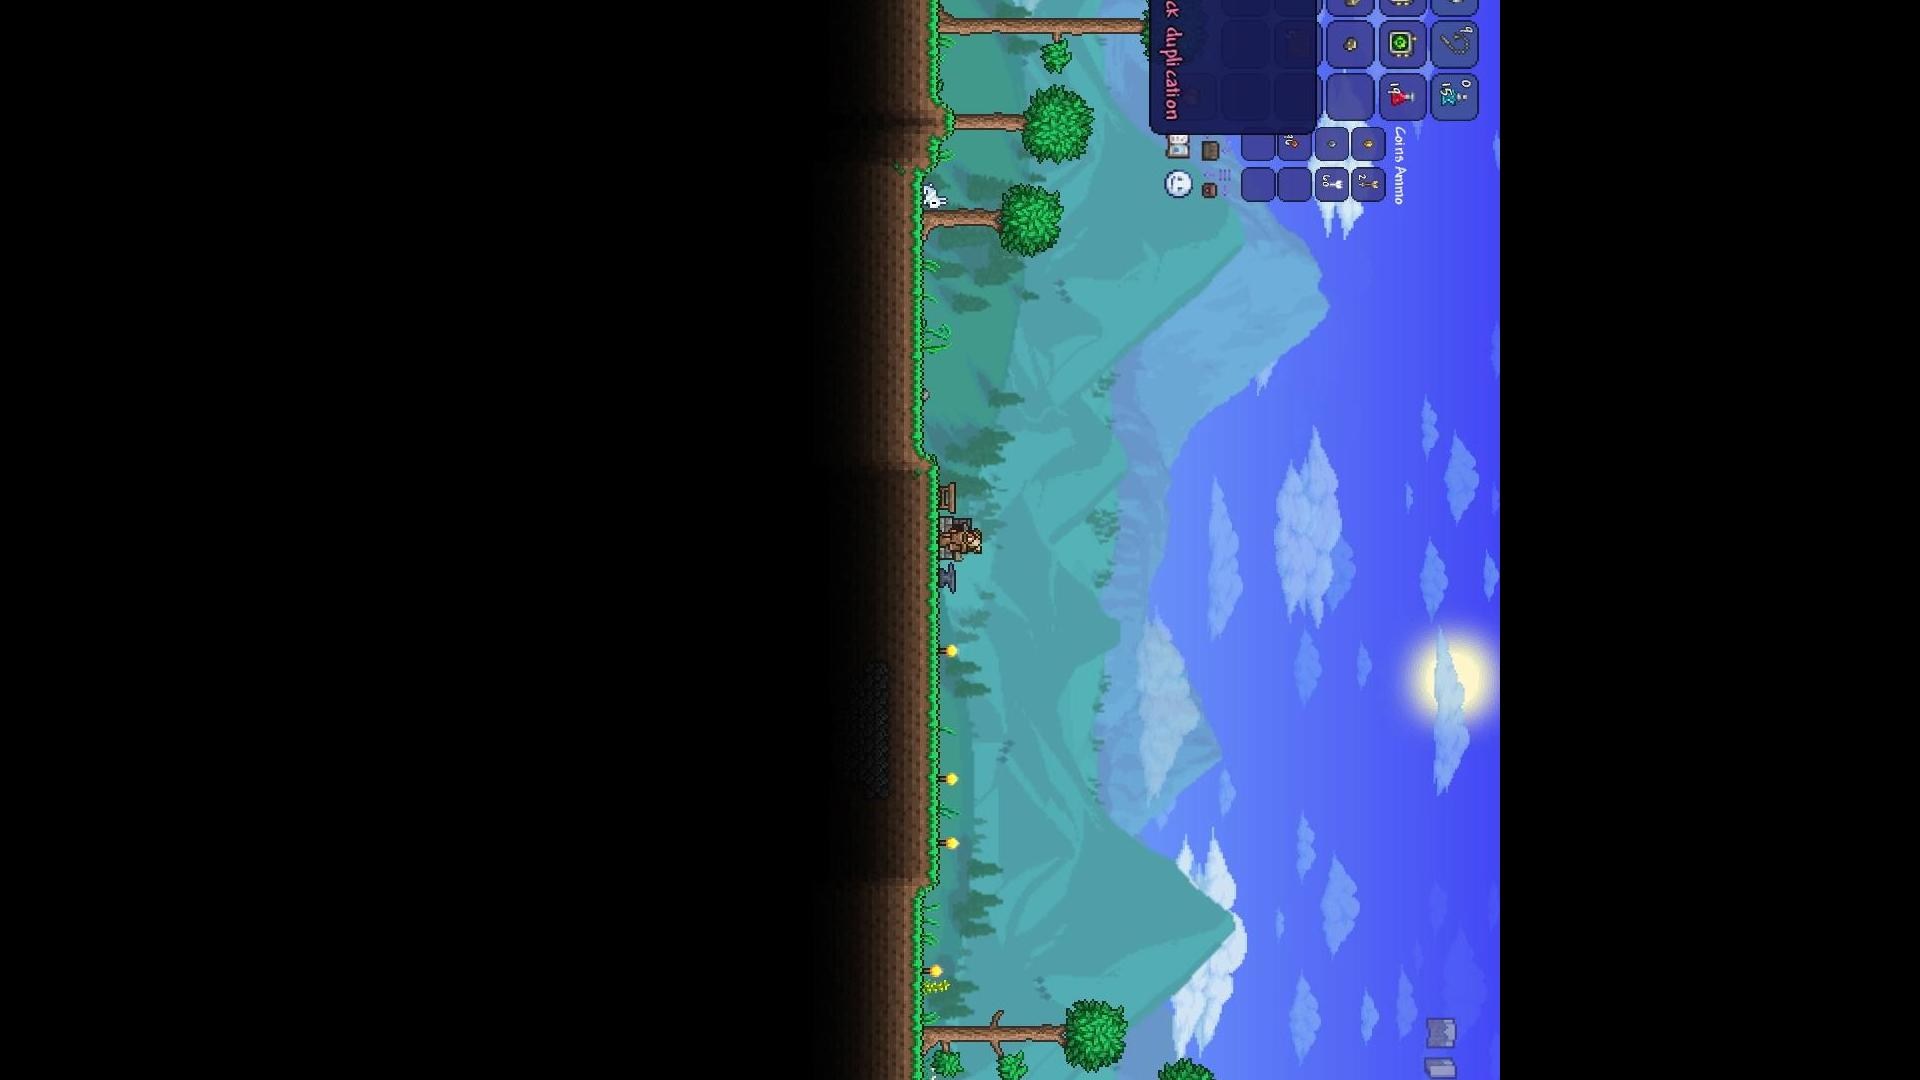dirt: (905, 451, 942, 884), (897, 160, 923, 460), (895, 899, 930, 1080), (915, 0, 942, 98)
